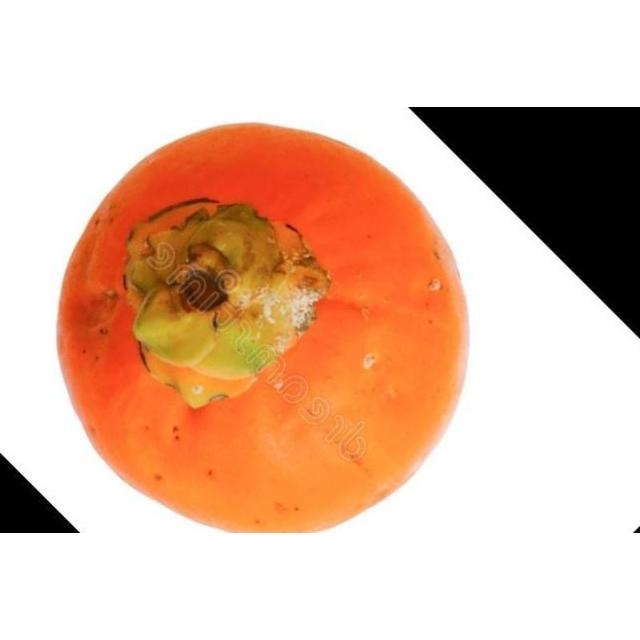good: (50, 122, 474, 533)
